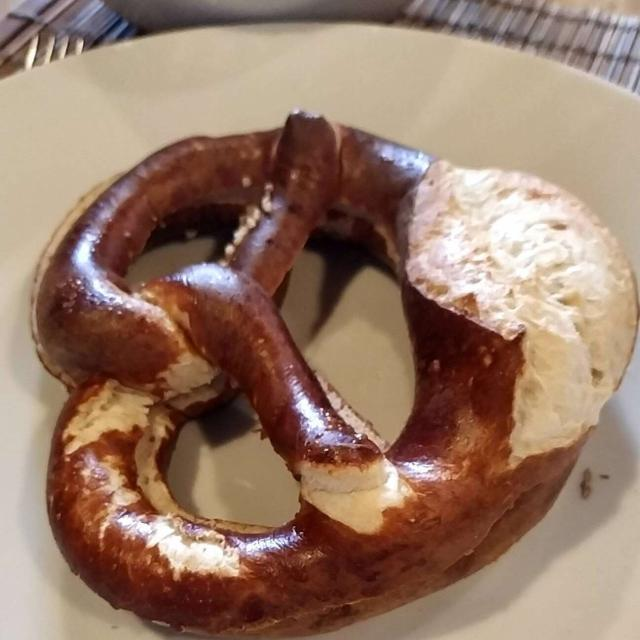pretzel: (49, 122, 624, 621)
